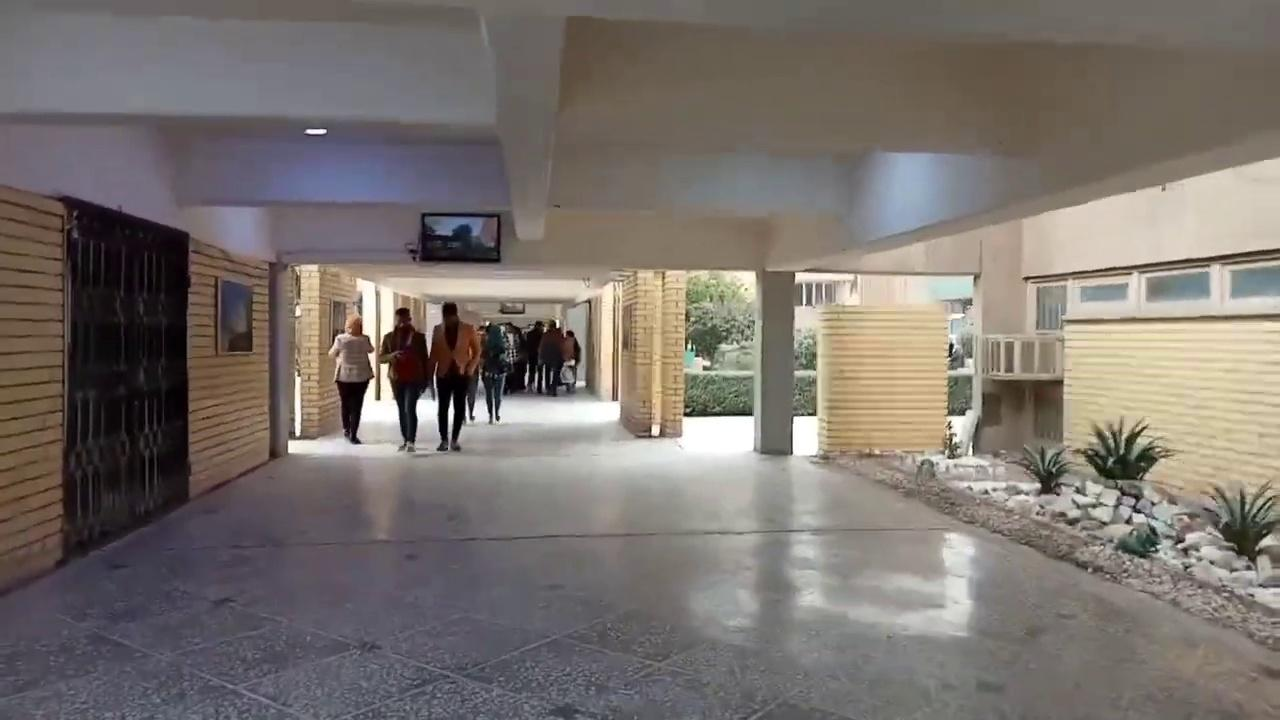person: (428, 302, 480, 451), (378, 307, 429, 452), (327, 312, 375, 444), (479, 322, 509, 424)
tree: (1073, 414, 1176, 482), (1200, 477, 1278, 563), (685, 274, 753, 368), (1016, 442, 1071, 494), (794, 326, 816, 370)
